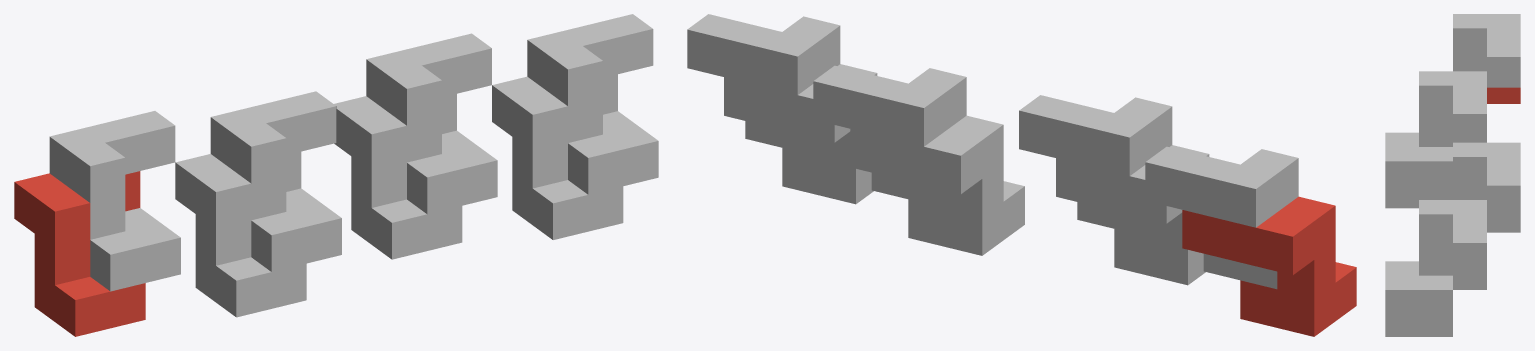
File: tiling.obj
3 renders of one model, left to right at view 1: azimuth 30°, elevation 25°; view 2: azimuth 150°, elevation 25°; view 3: azimuth 270°, elevation 25°, orthographic. The views are drawn at different scales.
Visible parts, largest first — view 1: copy_1_domain_3, copy_1_domain_4, copy_1_domain_8, copy_1_domain_7, copy_1_domain_1, copy_1_domain_2, copy_1_domain_6, copy_1_domain_5; view 2: copy_1_domain_1, copy_1_domain_5, copy_1_domain_7, copy_1_domain_3, copy_1_domain_4, copy_1_domain_8, copy_1_domain_2, copy_1_domain_6; view 3: copy_1_domain_8, copy_1_domain_4, copy_1_domain_7, copy_1_domain_3, copy_1_domain_6, copy_1_domain_2, copy_1_domain_1, copy_1_domain_5.
Boxes of the visible parts, box(x1,y1,x2,y2) form: copy_1_domain_3: box(49, 111, 180, 291); copy_1_domain_4: box(210, 91, 341, 271); copy_1_domain_8: box(527, 14, 658, 194); copy_1_domain_7: box(366, 33, 497, 214); copy_1_domain_1: box(14, 171, 145, 336); copy_1_domain_2: box(175, 151, 306, 317); copy_1_domain_6: box(492, 74, 623, 239); copy_1_domain_5: box(334, 94, 462, 259); copy_1_domain_1: box(1182, 196, 1356, 336); copy_1_domain_5: box(850, 115, 1024, 255); copy_1_domain_7: box(813, 65, 966, 208); copy_1_domain_3: box(1145, 146, 1298, 289); copy_1_domain_4: box(1019, 95, 1172, 237); copy_1_domain_8: box(687, 14, 840, 156); copy_1_domain_2: box(1056, 145, 1209, 285); copy_1_domain_6: box(724, 64, 877, 204); copy_1_domain_8: box(1385, 200, 1486, 320); copy_1_domain_4: box(1385, 71, 1486, 191); copy_1_domain_7: box(1453, 142, 1520, 216); copy_1_domain_3: box(1453, 14, 1520, 87); copy_1_domain_6: box(1385, 273, 1486, 336); copy_1_domain_2: box(1385, 192, 1452, 208); copy_1_domain_1: box(1487, 87, 1520, 103); copy_1_domain_5: box(1487, 216, 1520, 232).
Bounding box in the file's own units: 17 × 4 × 4.
